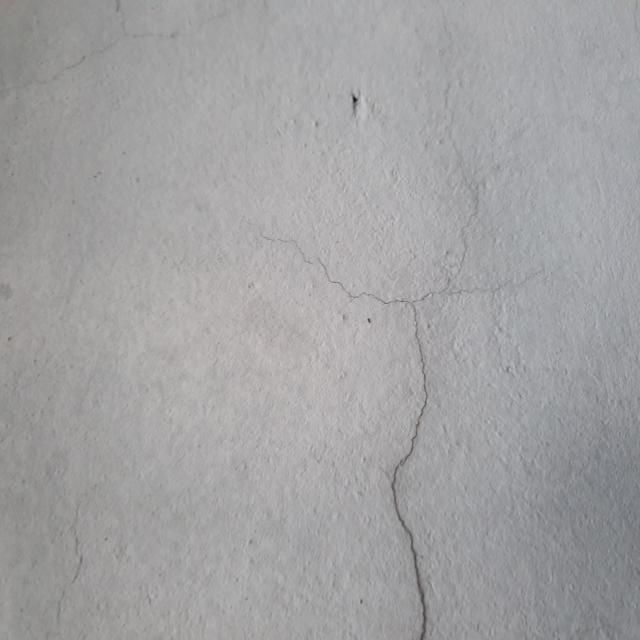SurfaceCrack: (238, 36, 486, 639)
